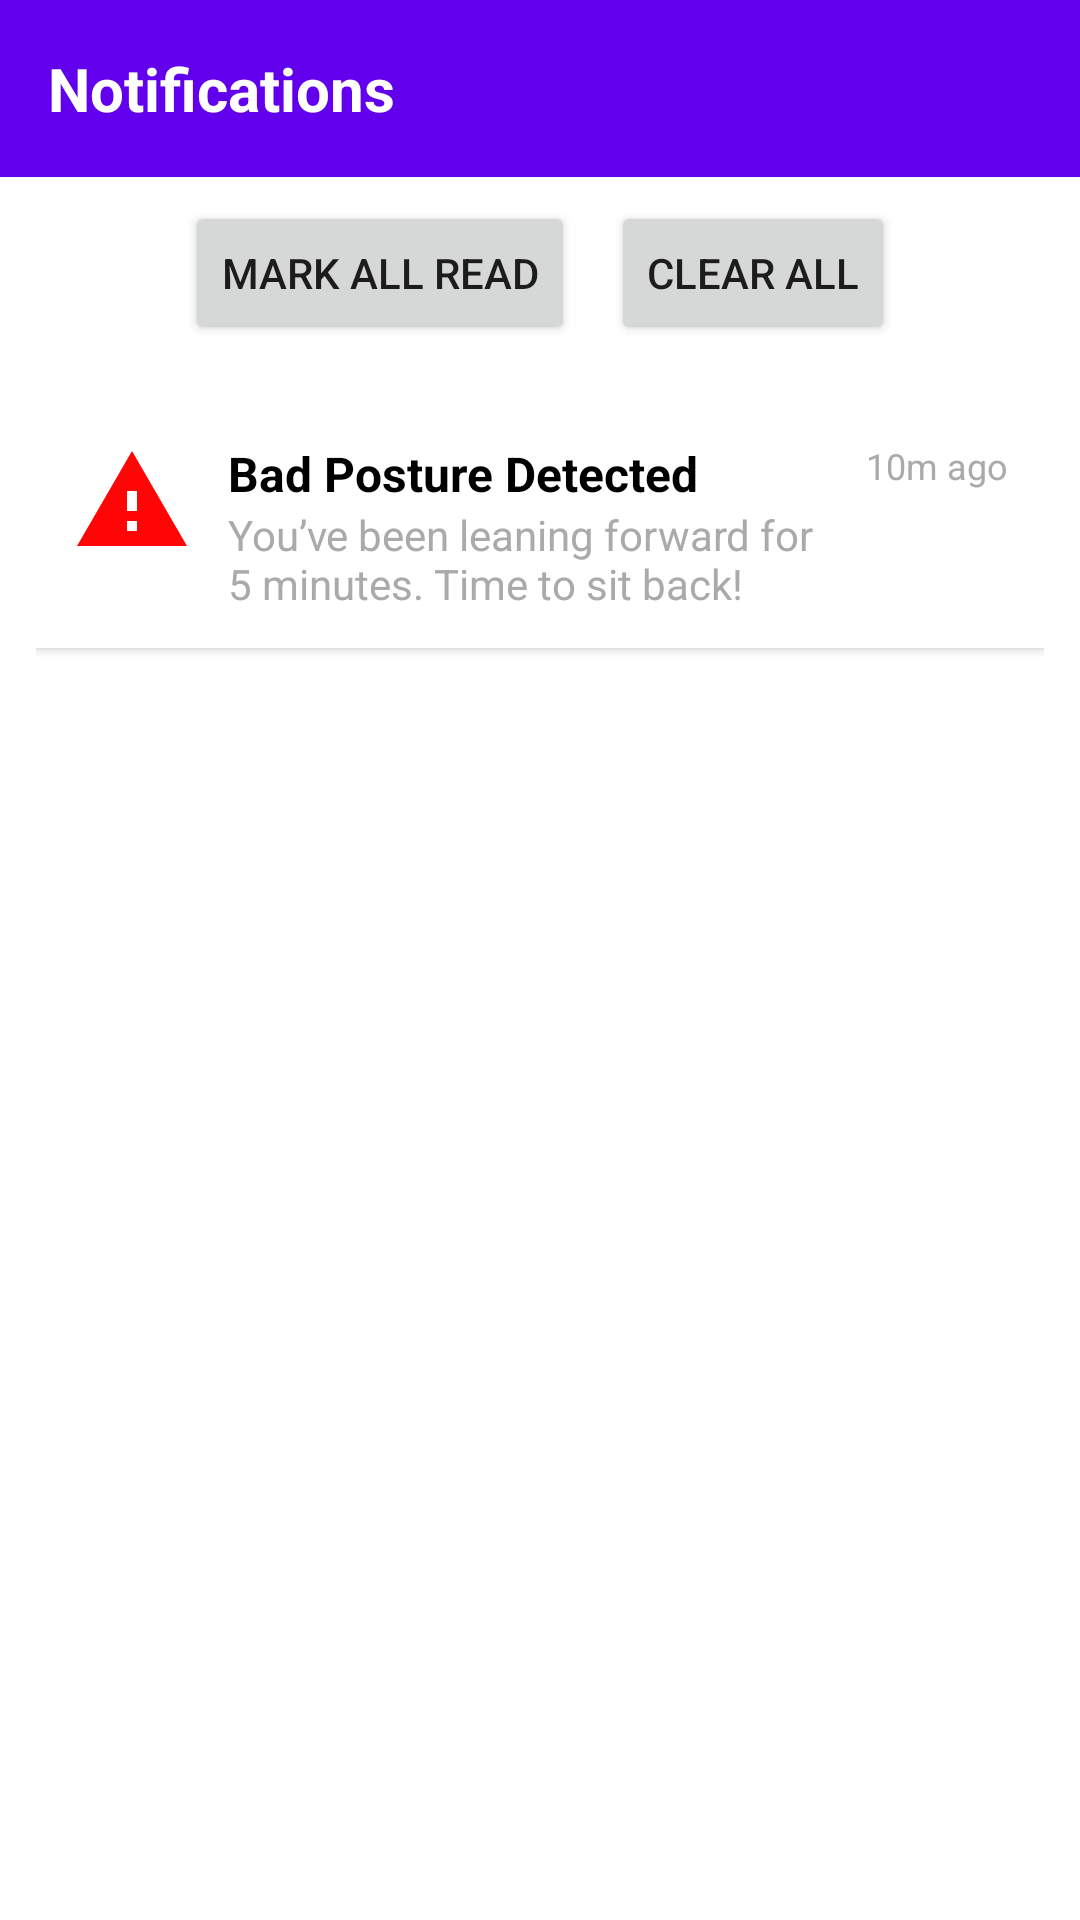

Point at icon controls on the screen. Image size 1080px×1920px, points as [x,y].
Warning Icon: [132,498]
